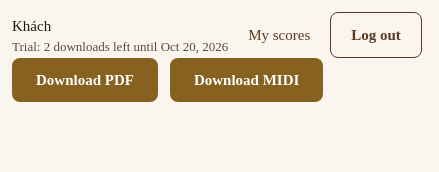
Tài khoản khách (web) › tải thành công thì tải lại trạng thái dùng thử (số lượt còn lại giảm)
expect the text with test id "entitlement" shows "2 downloads left": met, box top-left (12, 39), bottom-right (228, 54)
Click the button "Download PDF". click: [85, 80]
box: top-left (12, 58), bottom-right (158, 102)
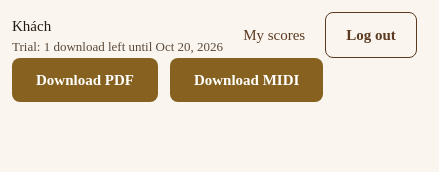
expect the text with test id "entitlement" shows "1 download left": met, box top-left (12, 39), bottom-right (223, 54)
